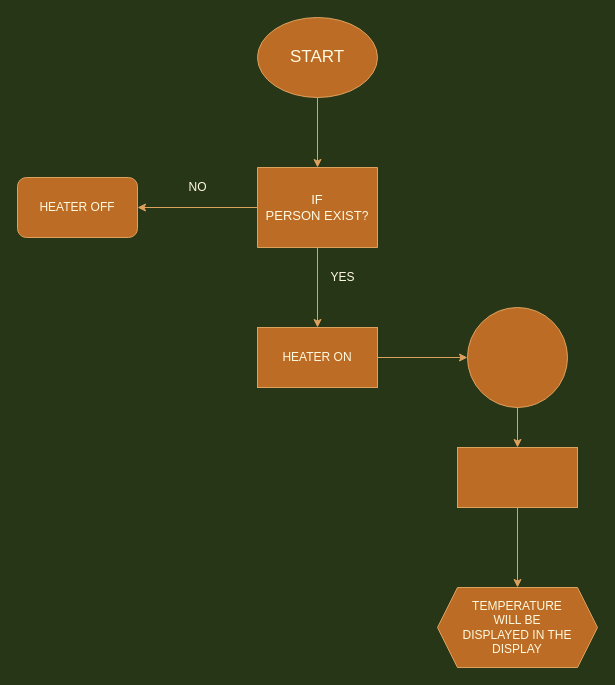
Image size: 615x685. Some labels were removed from this diagram. Here are the shapes that lost their labels. From the top down, the centre of each, then its label:
point 517,357: TEMPERATURE REQUEST
point 517,477: REQUIRED TEMPERATURE WILL BE OBTAINED
